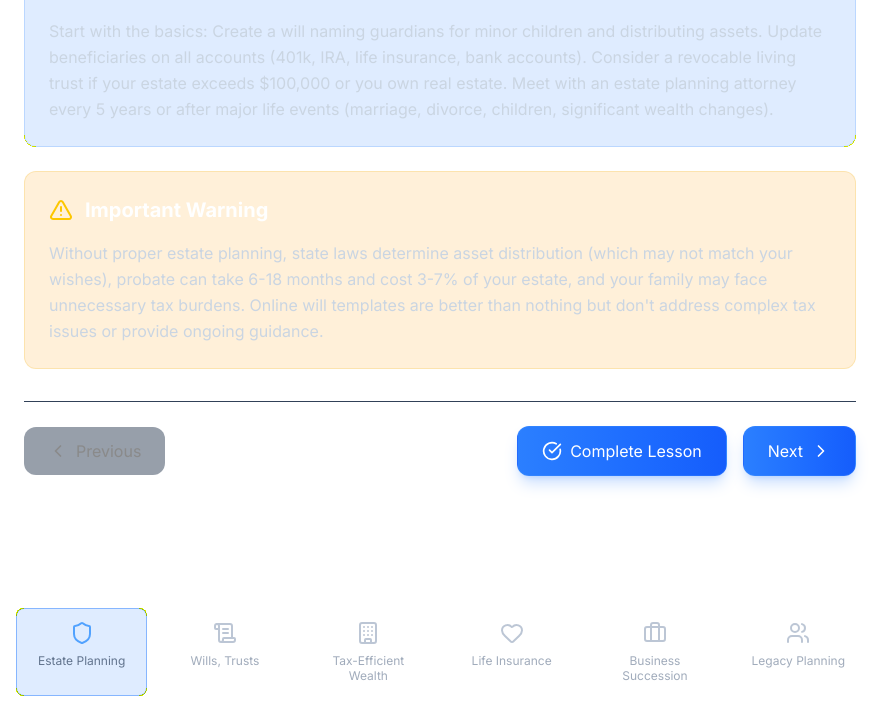
EstatePlanningLessonEnhanced › navigation buttons work correctly
(page scrolled)
Expected: the button "Previous" is disabled, left=24, top=427, right=165, bottom=475
Note: Click next button to go to lesson 2
Step 1. Click the button "Next" → (799, 451), box left=743, top=426, right=856, bottom=476
(page scrolled)
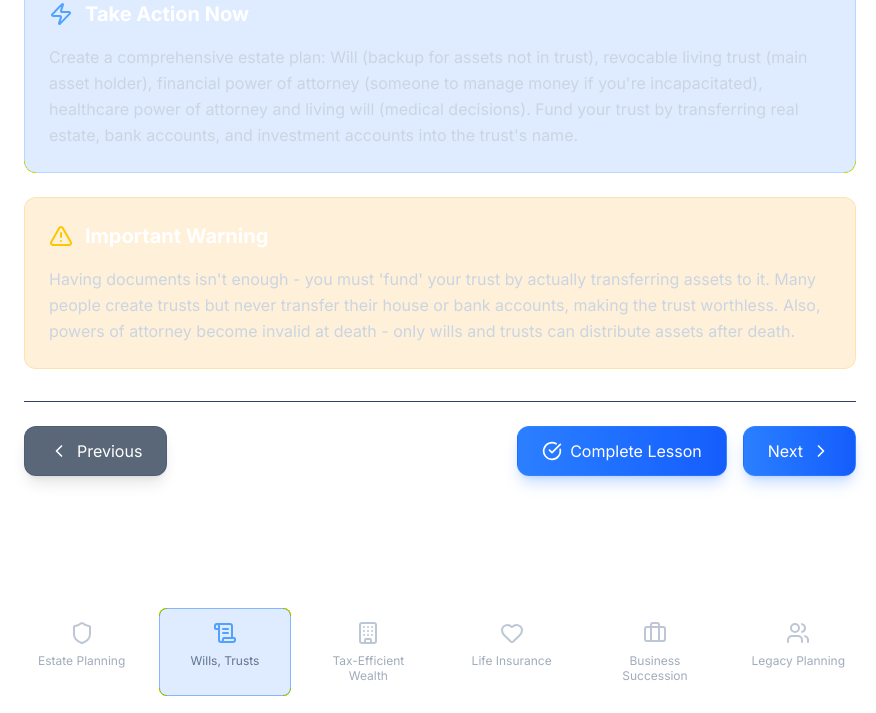
Expected: the button "Previous" is enabled, left=24, top=426, right=167, bottom=476
